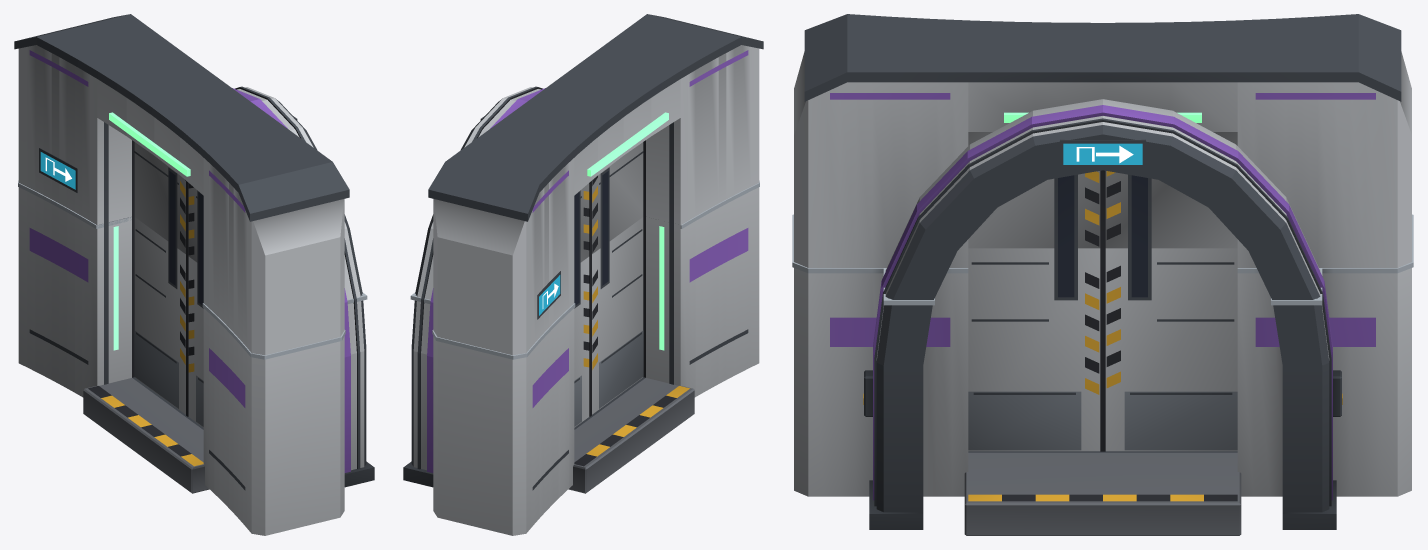
File: doorway_flat_r925.glb
3 views of the same model, side by side, from view 1: azimuth 30°, elevation 25°; view 2: azimuth 150°, elevation 25°; view 3: azimuth 270°, elevation 25° (orthographic). The views are drawn at different scales.
Parts seen in each view (by area): view 1: FrameTop, Frame, DoorR, DoorRTop, DoorL, FrameCap, DoorLTop, Sign, Status, Lights; view 2: FrameTop, Frame, DoorL, DoorLTop, DoorR, FrameCap, DoorRTop, Status, Lights, Sign; view 3: FrameTop, Frame, DoorL, DoorR, DoorLTop, DoorRTop, Sign, FrameCap.
Boxes of the visible parts, x1=… form: FrameTop: x1=14, y1=14, x2=362, y2=355; Frame: x1=18, y1=187, x2=374, y2=535; DoorR: x1=134, y1=217, x2=186, y2=415; DoorRTop: x1=134, y1=142, x2=186, y2=255; DoorL: x1=187, y1=256, x2=203, y2=427; FrameCap: x1=18, y1=180, x2=367, y2=359; DoorLTop: x1=187, y1=181, x2=203, y2=267; Sign: x1=39, y1=116, x2=297, y2=192; Status: x1=109, y1=112, x2=190, y2=176; Lights: x1=113, y1=226, x2=118, y2=350; FrameTop: x1=415, y1=14, x2=763, y2=355; Frame: x1=403, y1=187, x2=759, y2=535; DoorL: x1=591, y1=217, x2=643, y2=415; DoorLTop: x1=591, y1=142, x2=643, y2=255; DoorR: x1=574, y1=256, x2=590, y2=427; FrameCap: x1=410, y1=180, x2=759, y2=359; DoorRTop: x1=574, y1=181, x2=590, y2=267; Status: x1=587, y1=112, x2=668, y2=176; Lights: x1=659, y1=226, x2=664, y2=350; Sign: x1=480, y1=116, x2=560, y2=319; FrameTop: x1=794, y1=14, x2=1411, y2=299; Frame: x1=794, y1=268, x2=1411, y2=535; DoorL: x1=968, y1=248, x2=1102, y2=451; DoorR: x1=1103, y1=248, x2=1237, y2=451; DoorLTop: x1=968, y1=132, x2=1102, y2=248; DoorRTop: x1=1103, y1=132, x2=1237, y2=248; Sign: x1=1060, y1=139, x2=1145, y2=167; FrameCap: x1=792, y1=214, x2=1413, y2=305.
Bounding box in the file's own units: 1.22 × 2.67 × 3.46.
